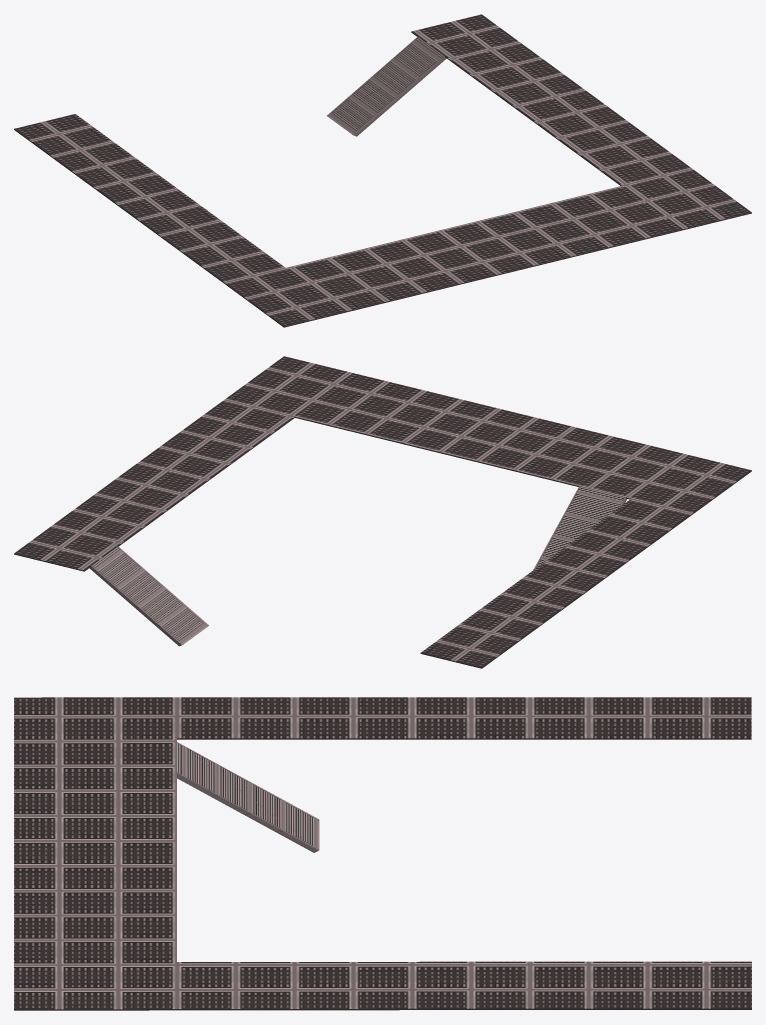
Rendered from Room4_SecondFloor.glb.
3 renders of one model, top to bottom at view 1: azimuth 30°, elevation 25°; view 2: azimuth 150°, elevation 25°; view 3: azimuth 270°, elevation 25°, orthographic. The views are drawn at different scales.
Parts seen in each view (by area): view 1: Cube.017; view 2: Cube.017; view 3: Cube.017.
Boxes of the visible parts, bbox=[...] form: Cube.017: bbox=[14, 14, 751, 327]; Cube.017: bbox=[14, 356, 751, 668]; Cube.017: bbox=[14, 697, 751, 1010].
Bounding box in the file's own units: 49.95 × 6.03 × 49.96.
Materials: 2 (2 with a texture image).
